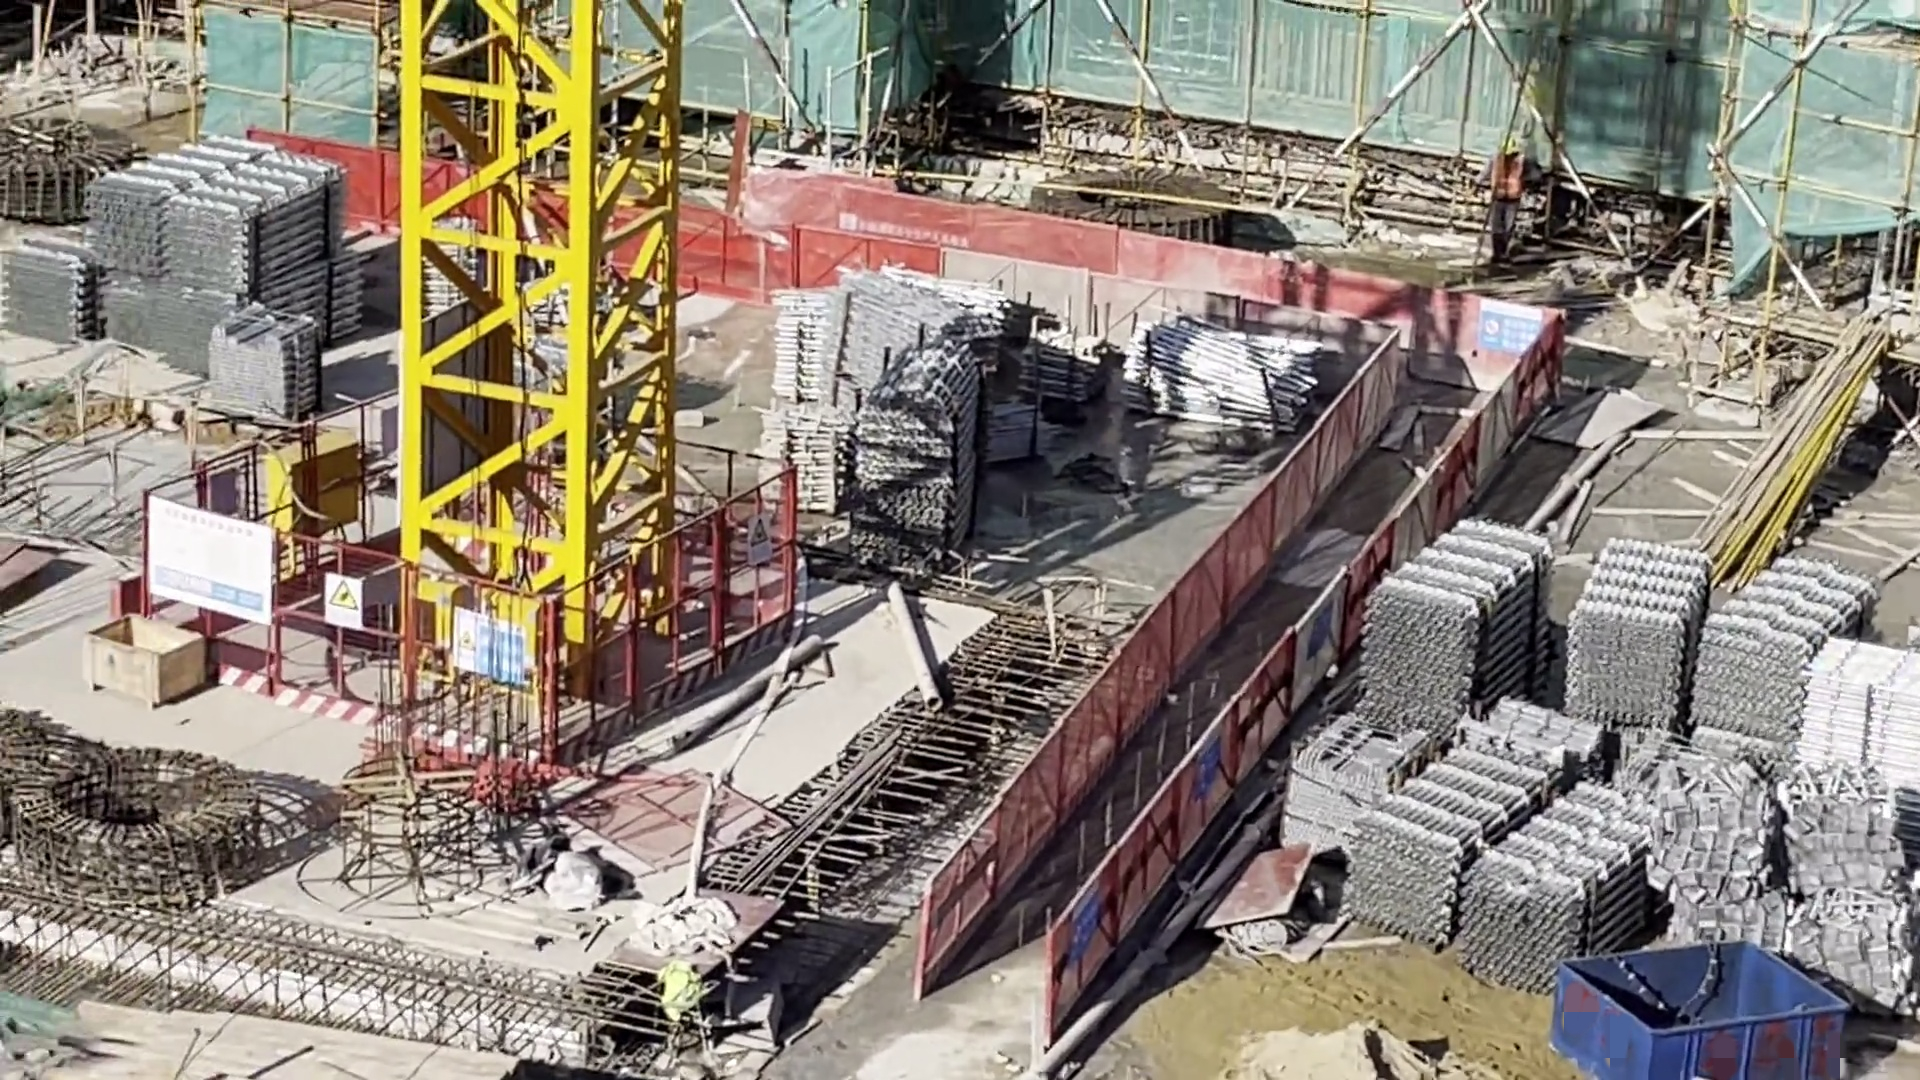ebox: (428, 572, 553, 707), (286, 422, 344, 541)
fence: (168, 501, 519, 772), (919, 696, 1249, 981), (541, 496, 779, 712), (738, 169, 1141, 291), (1331, 344, 1563, 487)
helmet: (1511, 127, 1528, 154)
hopper: (1564, 926, 1852, 1080)
person: (1481, 140, 1533, 263)
rebar: (731, 703, 911, 918)
scaffold: (4, 154, 378, 347), (1348, 677, 1566, 892), (1468, 774, 1651, 967), (1688, 547, 1856, 727), (781, 281, 1023, 402), (1374, 536, 1529, 719), (1138, 324, 1321, 457), (1554, 552, 1674, 702), (751, 401, 893, 521), (1806, 621, 1920, 769), (901, 367, 988, 556), (1288, 717, 1404, 831), (213, 301, 319, 412), (1013, 321, 1109, 404)
vest: (1489, 151, 1528, 186)
